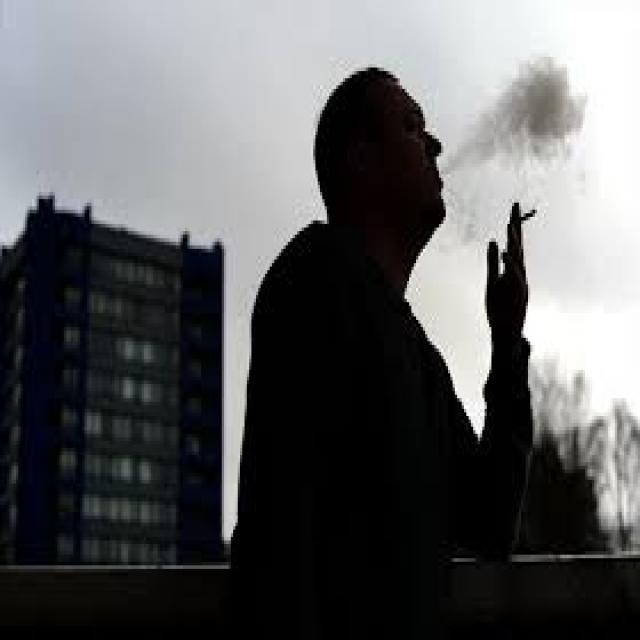smoke: (433, 43, 586, 244)
